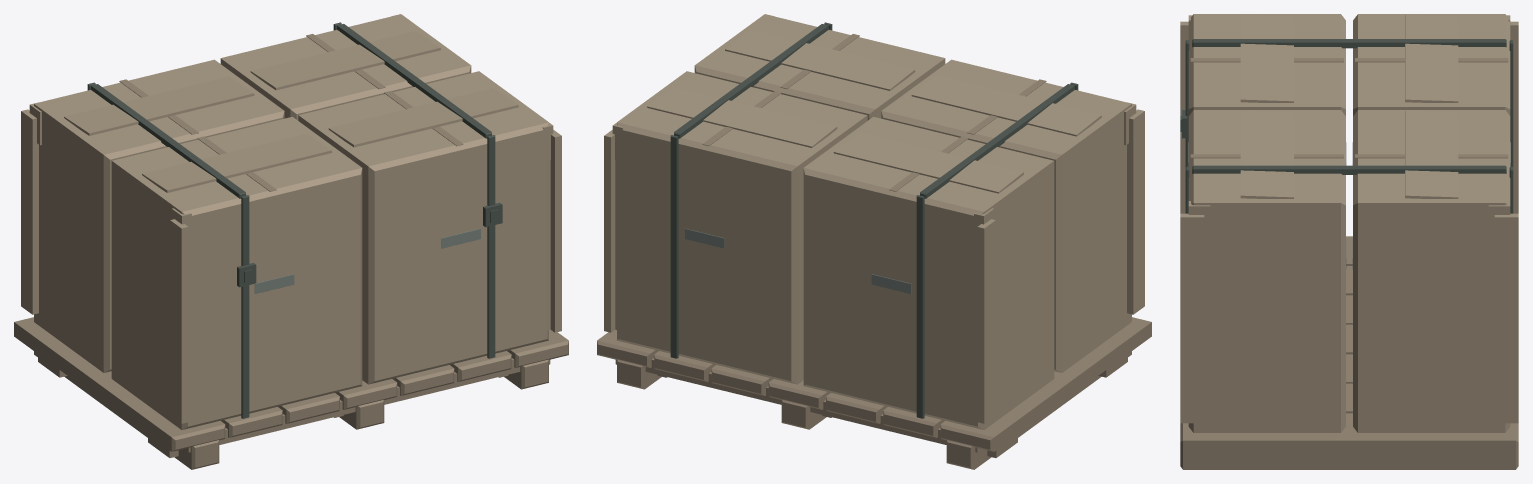
Rendered from Cargo.fbx.
3 views of the same model, side by side, from view 1: azimuth 30°, elevation 25°; view 2: azimuth 150°, elevation 25°; view 3: azimuth 270°, elevation 25° (orthographic). The views are drawn at different scales.
Parts seen in each view (by area): view 1: Load__Cardboard, PalletSlats__Timber, LoadStraps__Rubber, PalletSkids__Timber, CartonSeams__Timber, CartonHandholds__ConcreteDark; view 2: Load__Cardboard, PalletSlats__Timber, LoadStraps__Rubber, PalletSkids__Timber, CartonSeams__Timber, CartonHandholds__ConcreteDark; view 3: Load__Cardboard, PalletSlats__Timber, LoadStraps__Rubber, PalletSkids__Timber, CartonSeams__Timber.
Boxes of the visible parts, left/top/right/bottom form: Load__Cardboard: left=21, top=14, right=561, bottom=429; PalletSlats__Timber: left=14, top=317, right=568, bottom=451; LoadStraps__Rubber: left=87, top=22, right=502, bottom=418; PalletSkids__Timber: left=34, top=351, right=550, bottom=469; CartonSeams__Timber: left=119, top=34, right=463, bottom=191; CartonHandholds__ConcreteDark: left=254, top=228, right=480, bottom=293; Load__Cardboard: left=604, top=14, right=1144, bottom=429; PalletSlats__Timber: left=597, top=317, right=1151, bottom=451; LoadStraps__Rubber: left=670, top=22, right=1078, bottom=418; PalletSkids__Timber: left=615, top=351, right=1131, bottom=469; CartonSeams__Timber: left=702, top=34, right=1046, bottom=191; CartonHandholds__ConcreteDark: left=685, top=228, right=911, bottom=293; Load__Cardboard: left=1180, top=14, right=1518, bottom=432; PalletSlats__Timber: left=1180, top=236, right=1518, bottom=455; LoadStraps__Rubber: left=1180, top=39, right=1513, bottom=213; PalletSkids__Timber: left=1180, top=453, right=1518, bottom=469; CartonSeams__Timber: left=1190, top=58, right=1508, bottom=158.
Size of what is drawn, in the model's own units: 2 by 1.25 by 1.4.
